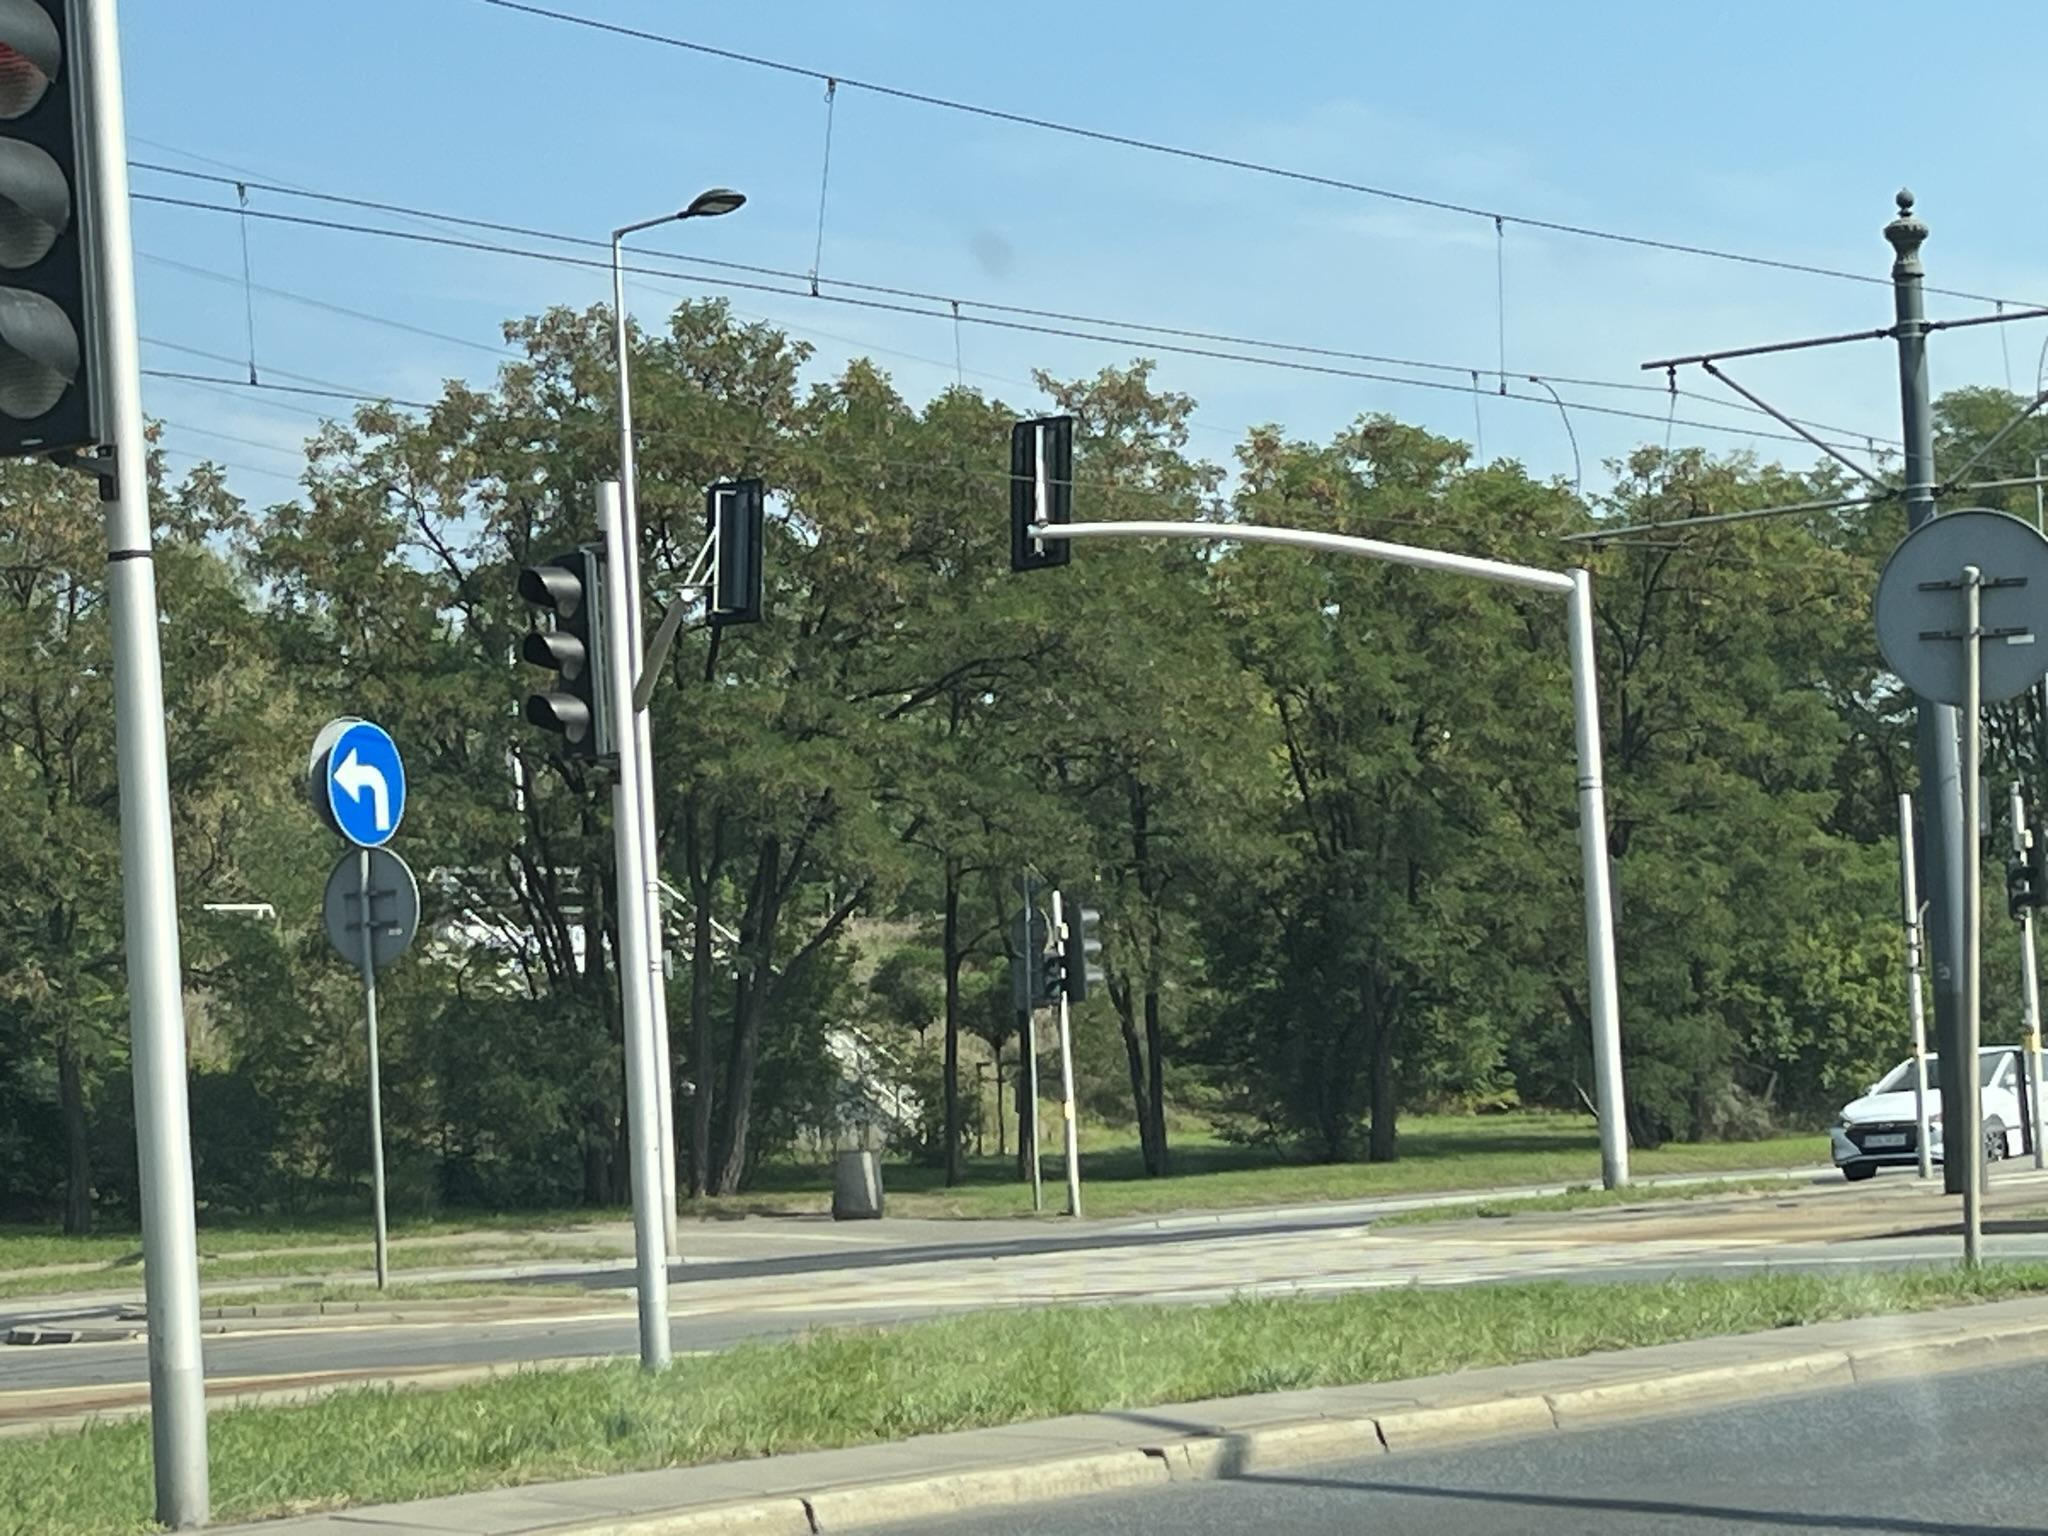mandatory: (327, 721, 408, 849)
